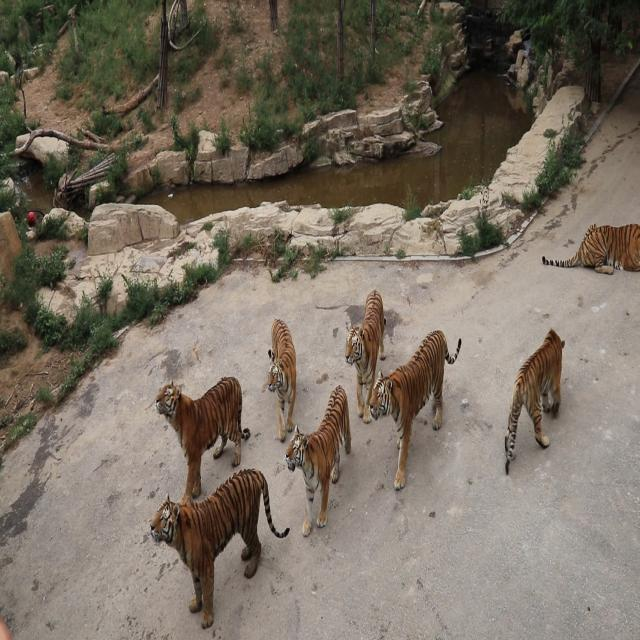Tiger: (144, 478, 299, 614), (369, 335, 483, 497), (154, 362, 262, 492), (498, 322, 575, 488), (288, 378, 360, 538), (338, 279, 390, 419), (536, 212, 640, 280), (266, 302, 308, 432)
